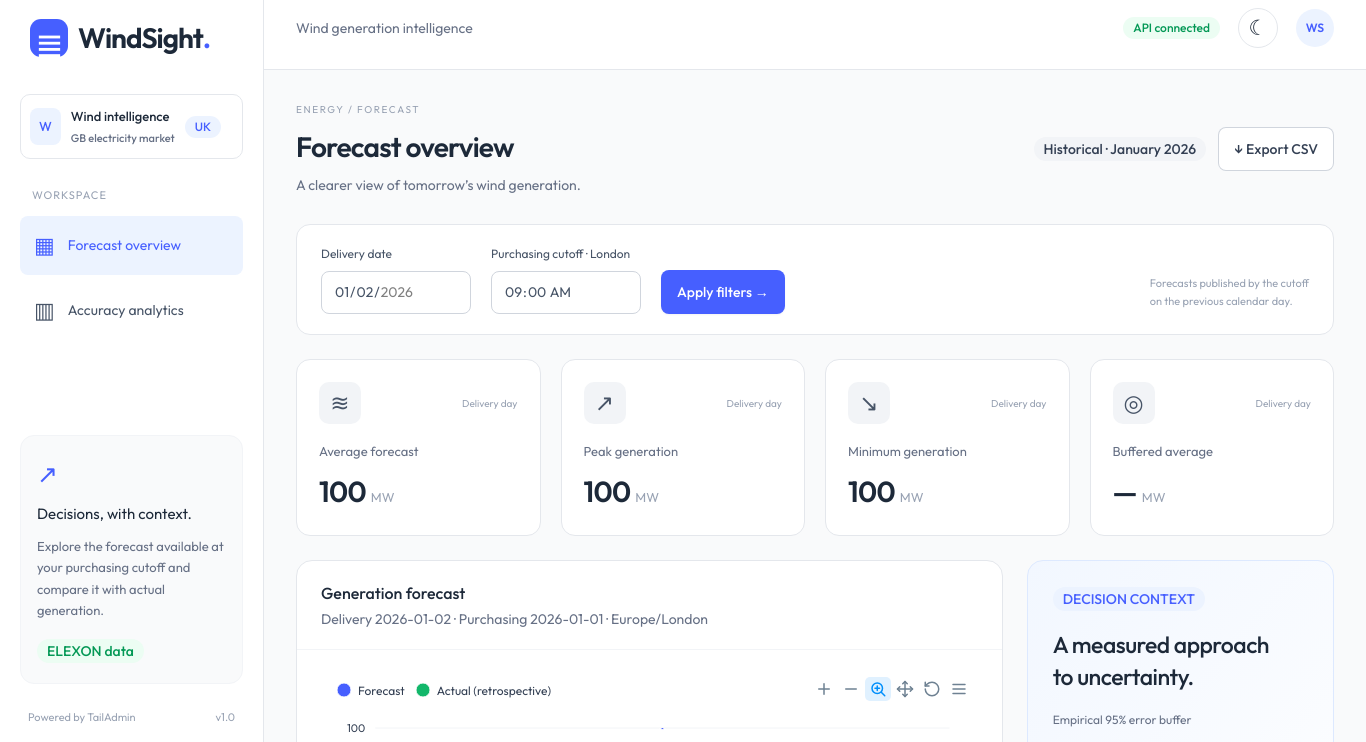
Test case: switches between analytics and forecast without rendering stale response shapes
Step 1. Click the button "▥ Accuracy analytics" → (132, 310), box [20, 280, 243, 340]
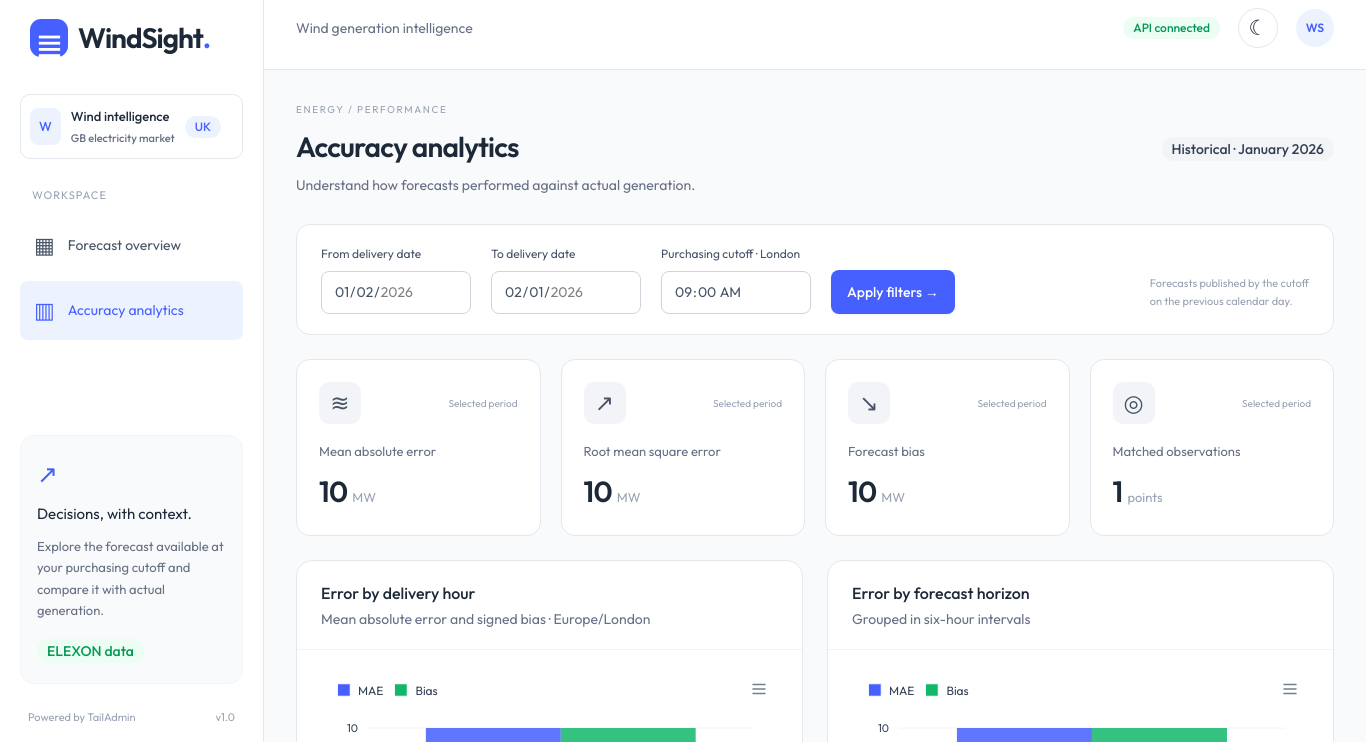
Expected: the text "Matched observations" is shown, [1112, 443, 1240, 459]
Step 2. Click the button "▦ Forecast overview" → (132, 245), box [20, 216, 243, 274]
(page scrolled)
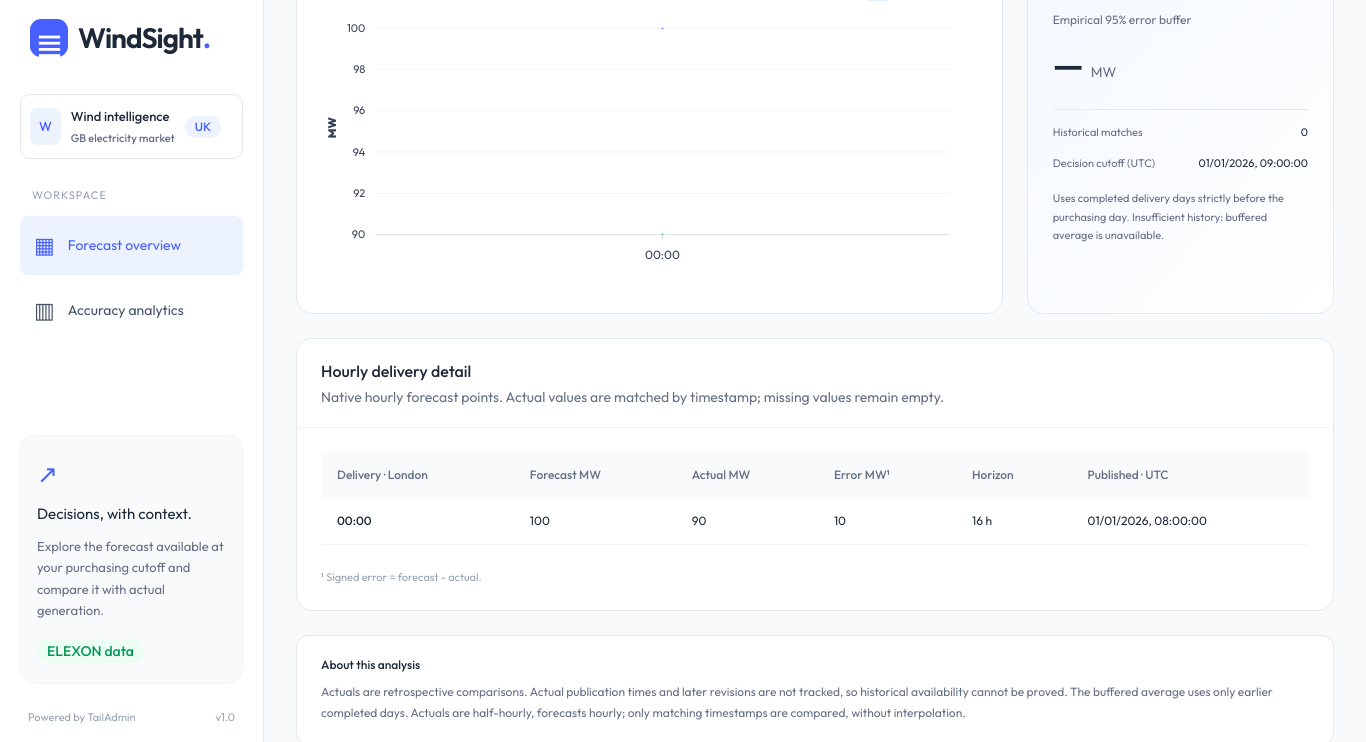
Expected: the heading "Hourly delivery detail" is shown, [321, 361, 471, 381]
